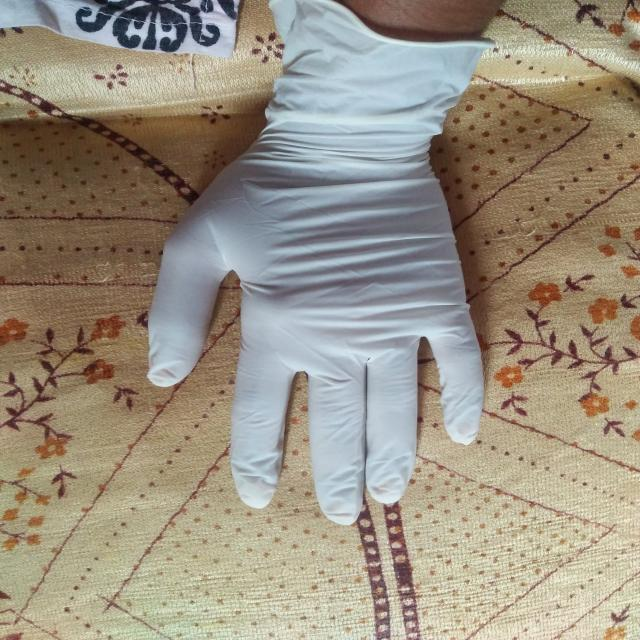gloved_hand: (138, 1, 498, 531)
